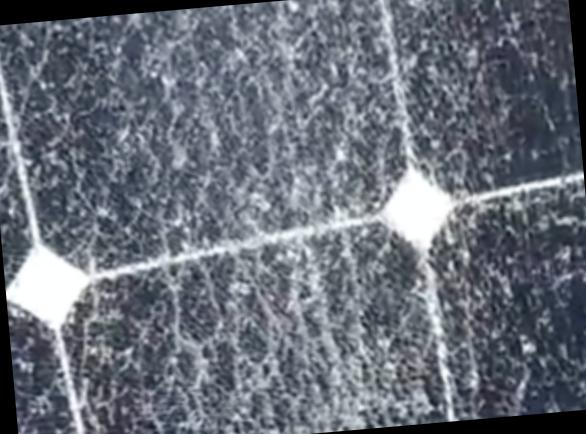Crack: (0, 0, 580, 433)
